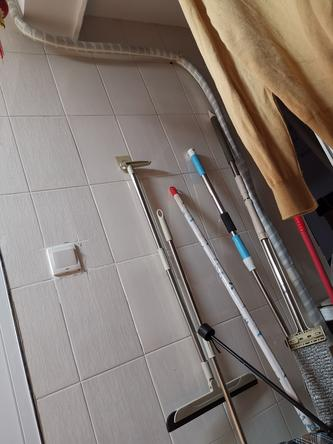switch: (50, 246, 81, 271)
